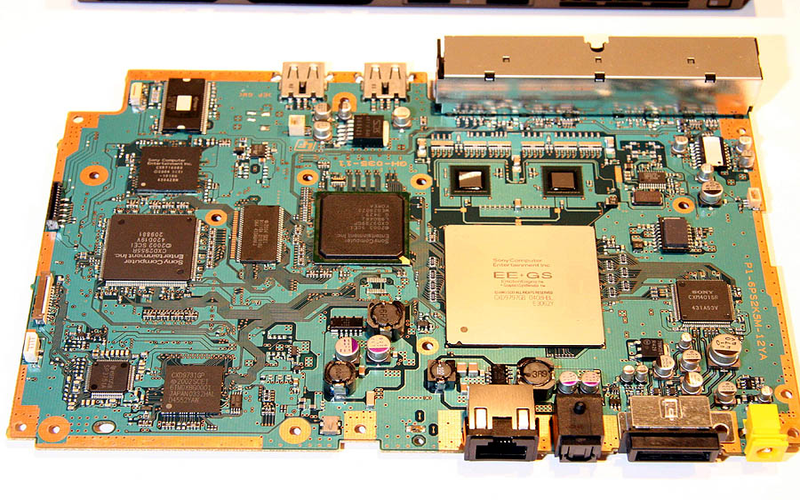Cirtuit-Board: (15, 45, 800, 479)
